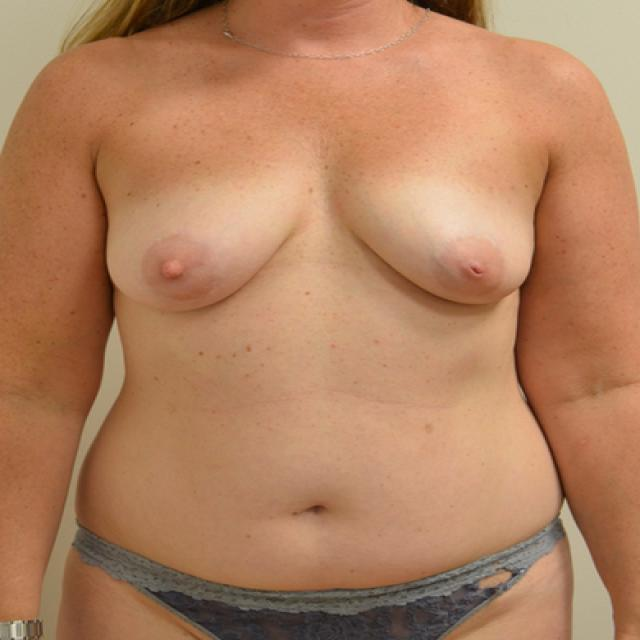Seno ileso: (97, 173, 317, 326), (328, 174, 544, 319)
